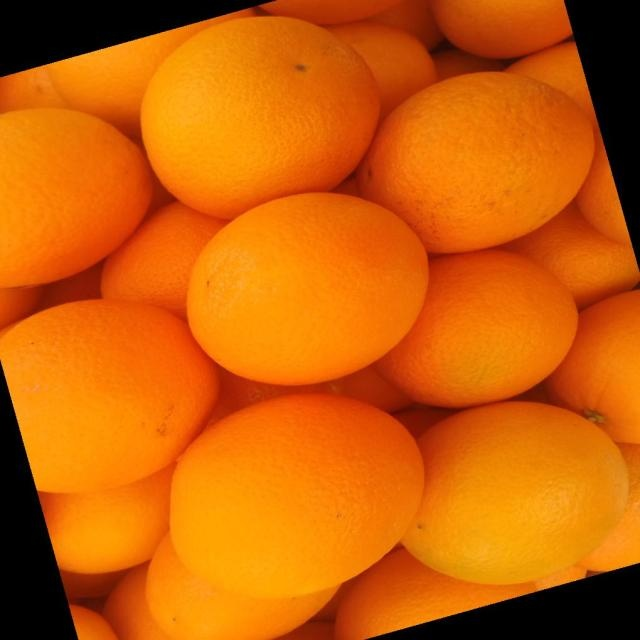agrume: (2, 2, 637, 636), (151, 389, 449, 603), (167, 190, 458, 397), (142, 17, 374, 219), (392, 398, 631, 593), (365, 70, 593, 250), (5, 299, 215, 493), (366, 246, 594, 423), (4, 105, 151, 287), (47, 13, 245, 135), (128, 538, 331, 638), (99, 204, 229, 320), (38, 464, 172, 576), (329, 22, 437, 122), (435, 1, 572, 58)
